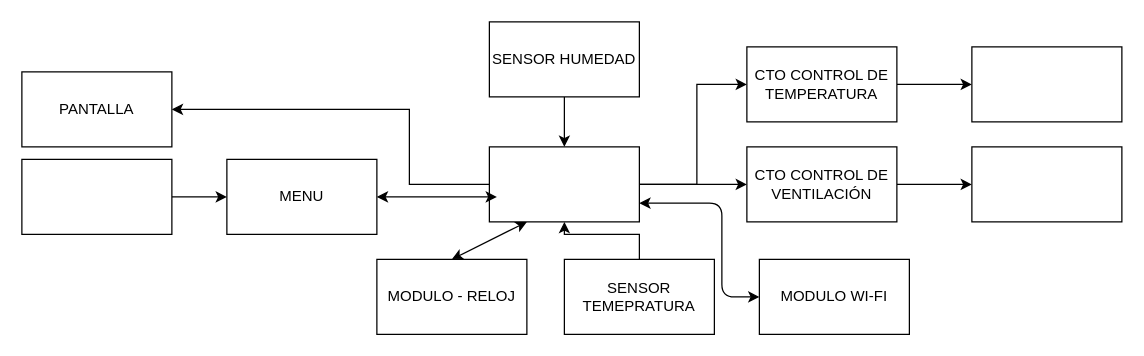
Image size: 1144x356. Some labels were removed from this diagram. The shapes that lost their labels are listed below. From the top down, each one's centre as x and y in pixels, then its label:
(1046,84): RESISTENCIA ELECTRICA
(96,196): TECLADO
(563,184): PC
(1046,184): VENTILADORES
